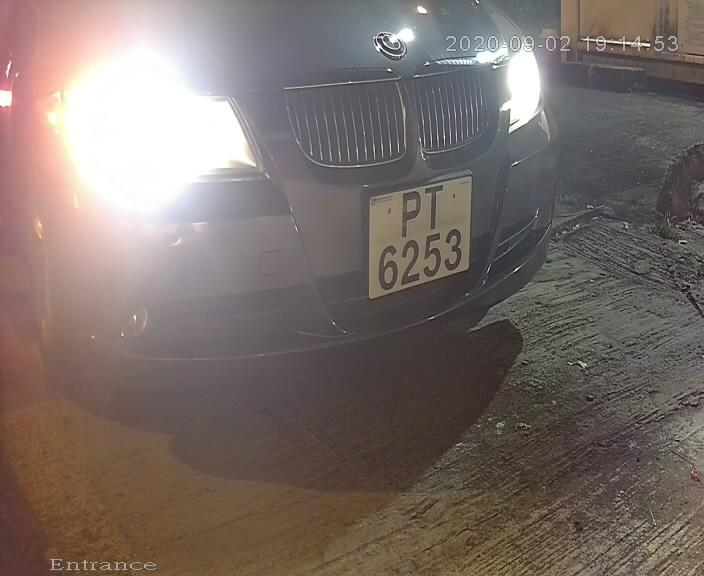License Plate: (353, 168, 475, 312)
